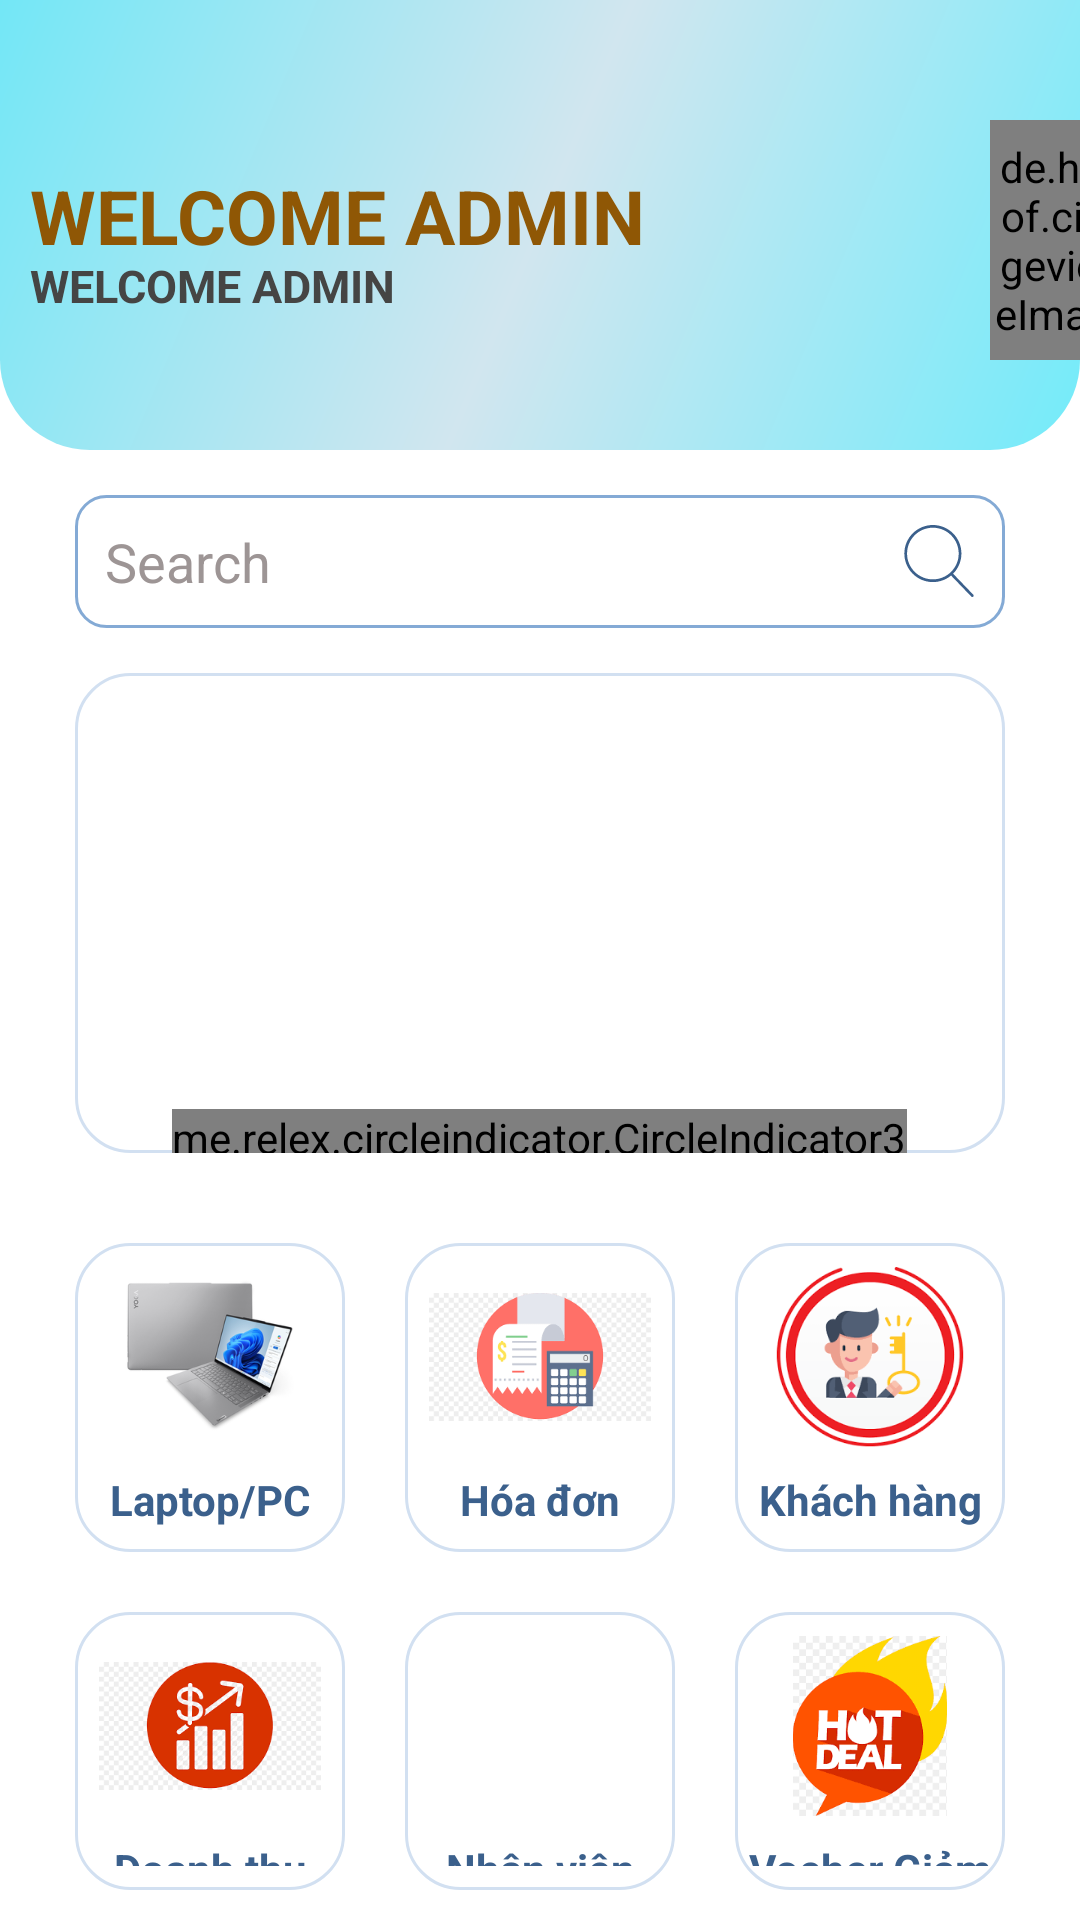

Where to tap for icons on this 1080×1920 app screen, as (x=x, y=y):
hoadon: (x=540, y=1356)
